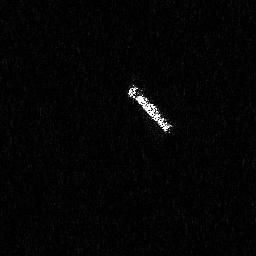ship: (125, 82, 174, 136)
